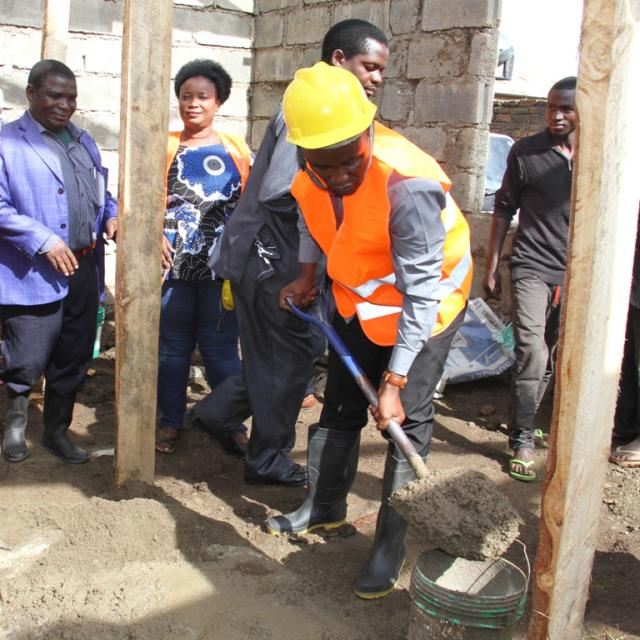boots: (275, 409, 364, 550), (354, 437, 424, 597), (240, 442, 309, 488), (39, 410, 97, 464), (0, 388, 41, 462)
hardhat: (281, 59, 380, 151)
no_boots: (189, 402, 253, 457), (504, 426, 544, 482), (152, 412, 188, 456), (611, 434, 640, 475)
no_gloves: (270, 254, 330, 323), (474, 255, 525, 318), (369, 372, 407, 433), (36, 237, 84, 280), (96, 204, 123, 248), (157, 229, 182, 271)
no_hardhat: (306, 20, 391, 101), (173, 57, 236, 133), (19, 60, 85, 130), (541, 72, 586, 139)
no_vest: (0, 102, 122, 307), (218, 102, 329, 314), (490, 124, 600, 307), (156, 131, 253, 281)
person: (263, 48, 479, 595), (187, 15, 398, 483), (0, 55, 123, 468), (484, 72, 591, 485), (154, 59, 258, 455)
vest: (281, 123, 476, 362)
